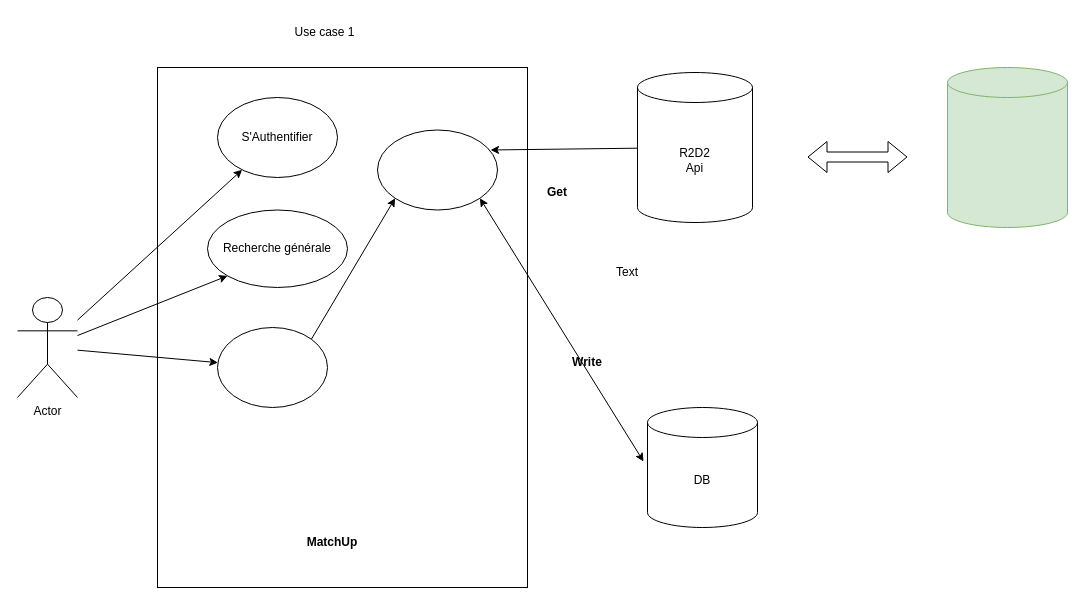
Image size: 1085x605. Some labels were removed from this diagram. The shapes that lost their labels are listed below. From the top down, each one's centre as x and y in pixels, then its label:
At pixel 1007 147: "Directories CSV,DOCX".
At pixel 437 169: "Transaction".
At pixel 272 367: "Recherche Costumisée".
